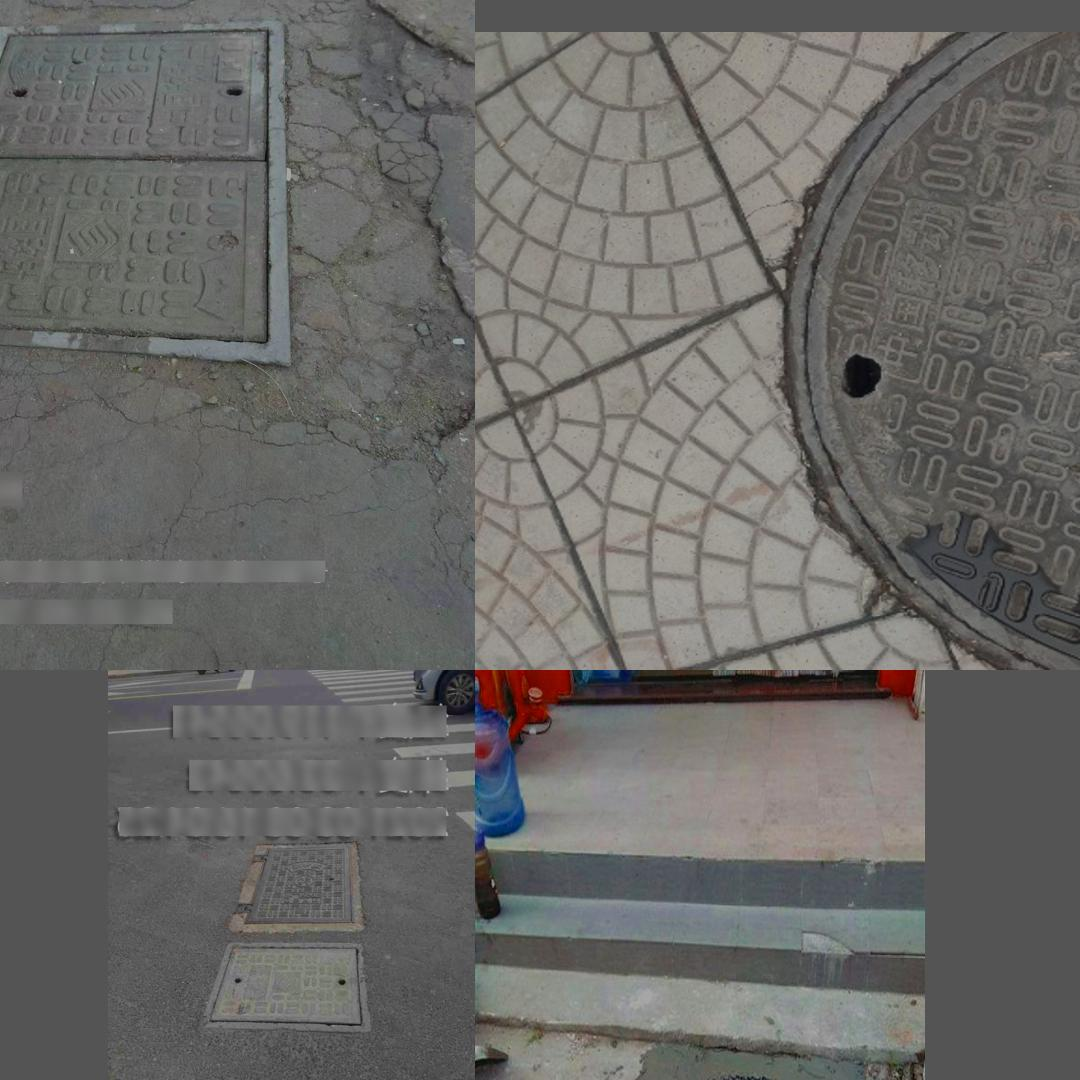good: (783, 33, 1080, 670), (0, 22, 286, 337), (201, 942, 370, 1028), (232, 841, 353, 926), (618, 1044, 892, 1080)
